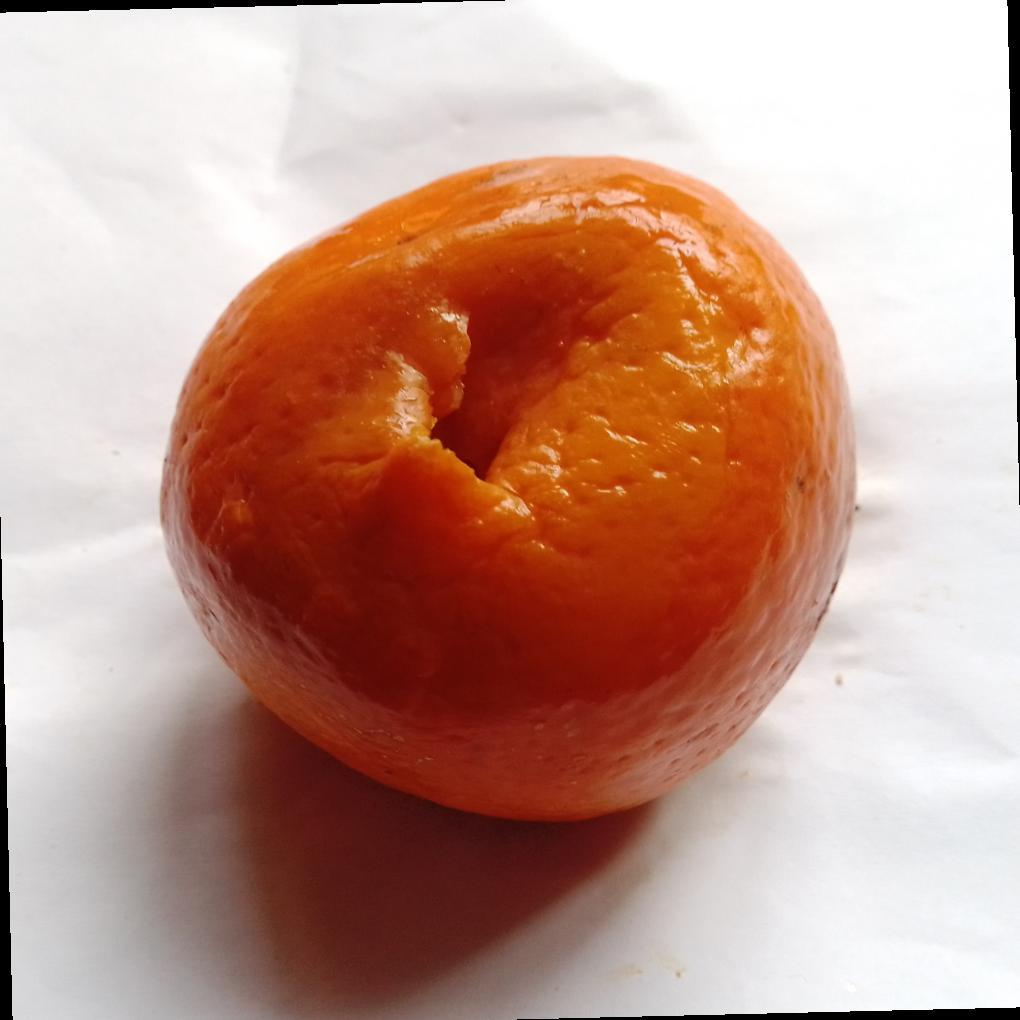FreshOrange: (155, 155, 859, 827)
